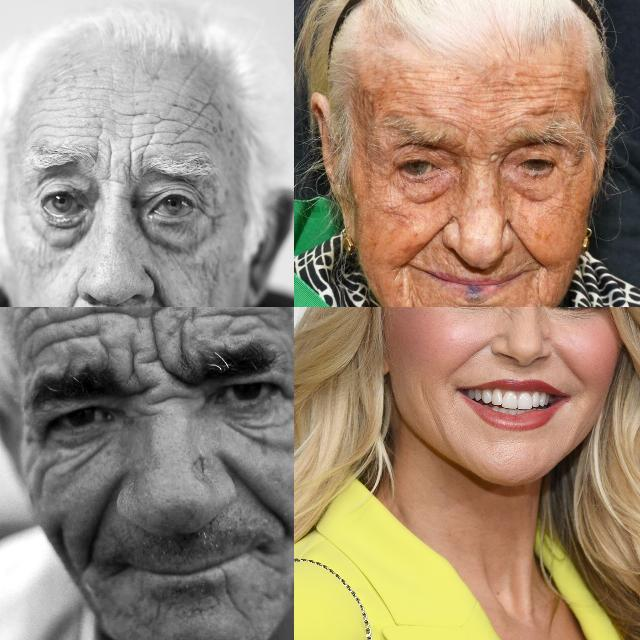bunny_line: (503, 307, 519, 324)
chin: (214, 581, 252, 621)
crows_feet: (23, 448, 67, 484), (279, 373, 294, 402)
forehead: (22, 308, 106, 352), (518, 68, 570, 92), (148, 122, 190, 150), (75, 108, 108, 140), (190, 90, 220, 124), (118, 108, 146, 142), (248, 307, 294, 326), (32, 117, 64, 139)
frown_line: (166, 312, 198, 368), (139, 388, 189, 416), (120, 340, 146, 388), (146, 322, 168, 378), (122, 148, 140, 185), (100, 144, 118, 178)
gummy_smile: (232, 468, 294, 530), (81, 486, 113, 554), (407, 213, 445, 260), (452, 338, 492, 372), (556, 352, 588, 391), (511, 227, 542, 266), (149, 280, 189, 307), (54, 283, 81, 307)
masseter: (415, 382, 449, 436)
sad_smile: (398, 278, 422, 307), (533, 273, 547, 307)
